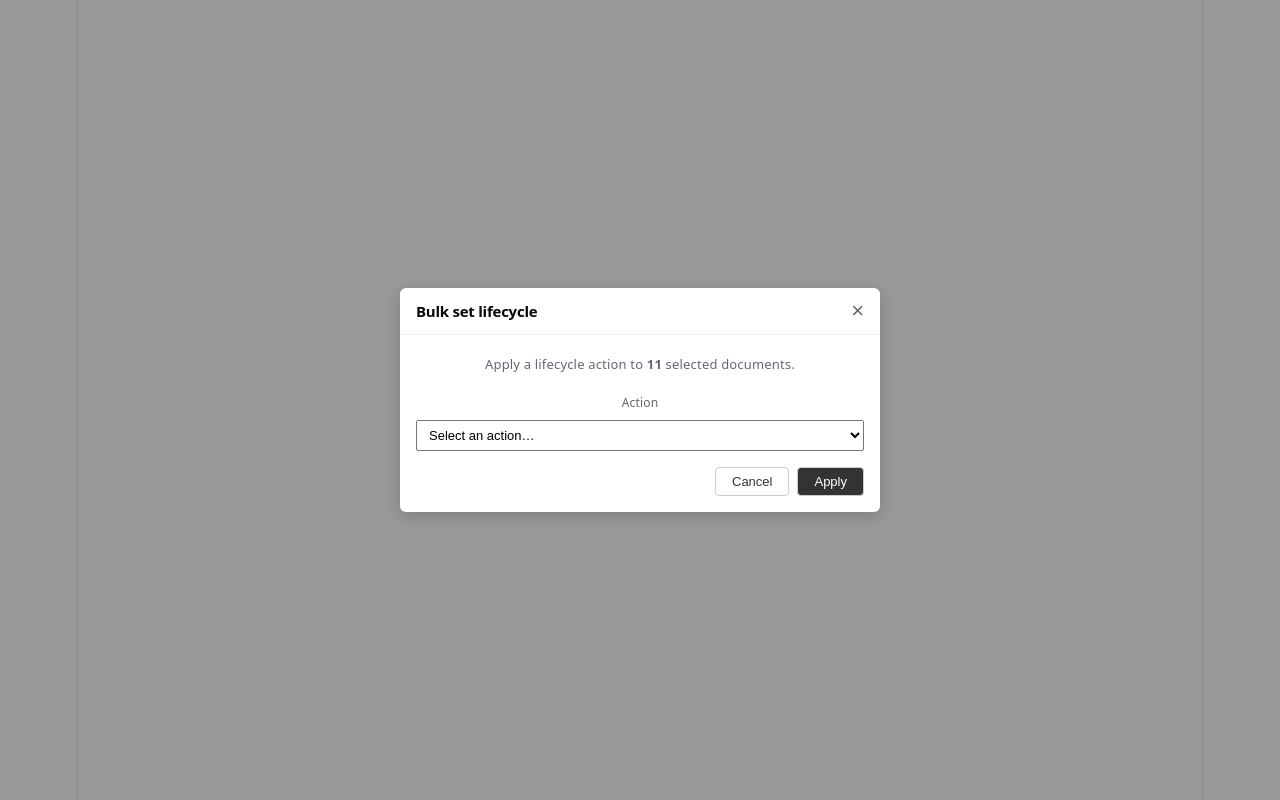
Test case: BulkLifecycleDialog › shows a confirmation step before applying when selection size > threshold
Step 1. Select "archive" in the dropdown labelled "Action" → {"x": 640, "y": 435}, box [416, 420, 864, 451]
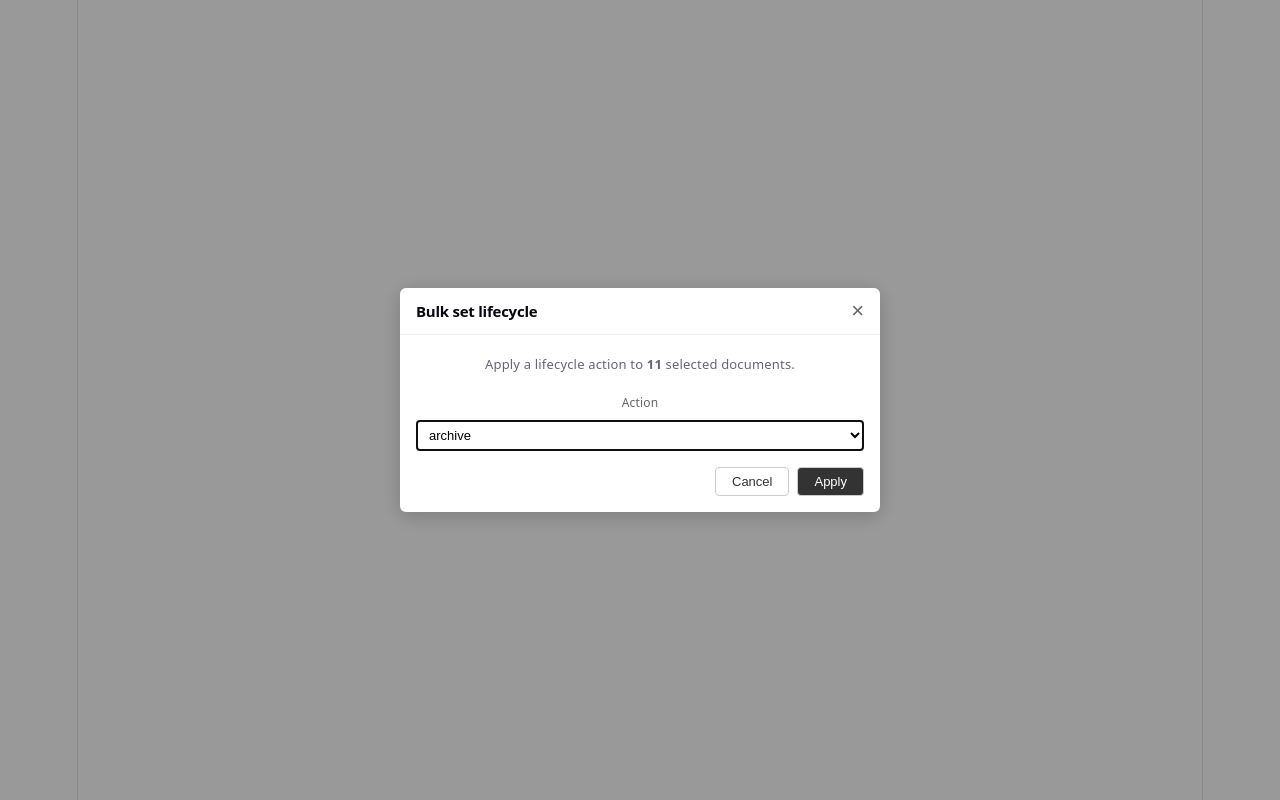
Step 2. Click the button "Apply" → {"x": 831, "y": 481}, box [798, 467, 864, 496]
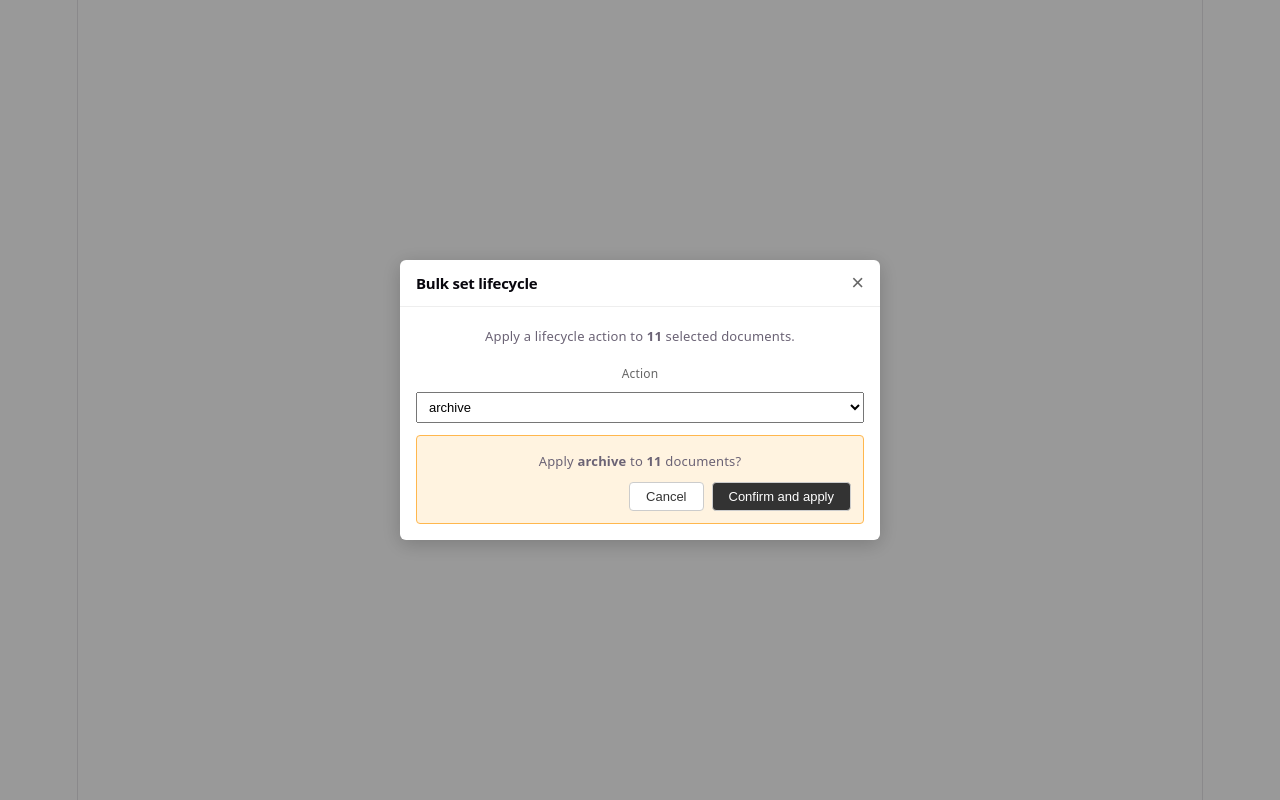
Now the element with test id "bulk-lifecycle-confirm" shows "Apply archive to 11 documents", box [416, 434, 864, 524]
